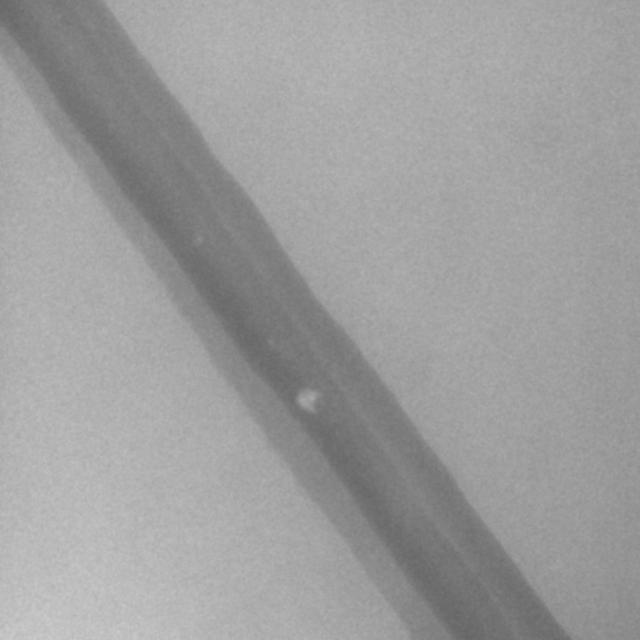air hole: (193, 232, 204, 245)
slag inclusion: (296, 386, 319, 411)
